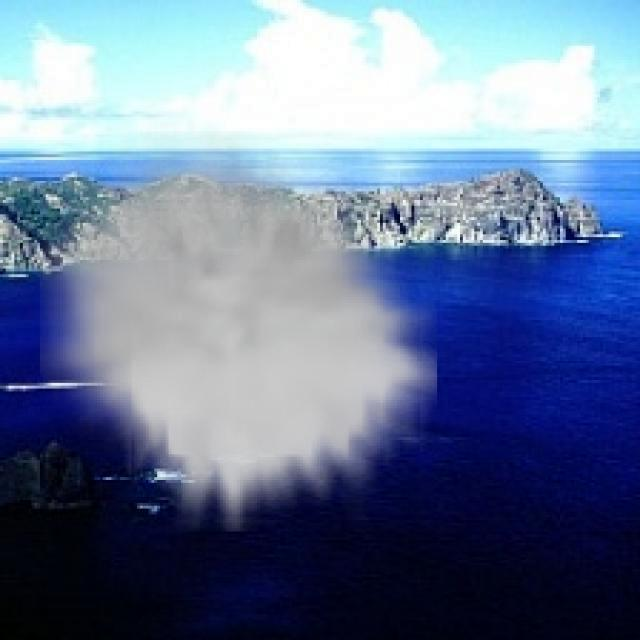no_helmet: (40, 132, 437, 532)
